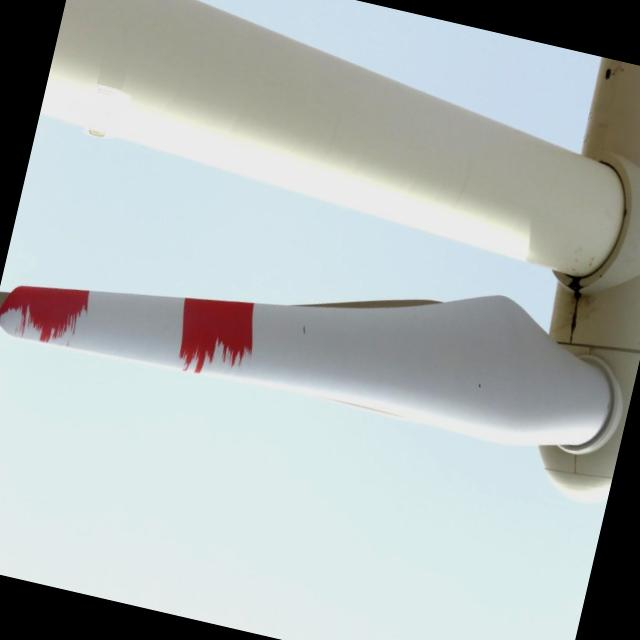surface_peeling: (166, 284, 262, 381), (0, 268, 93, 350)
